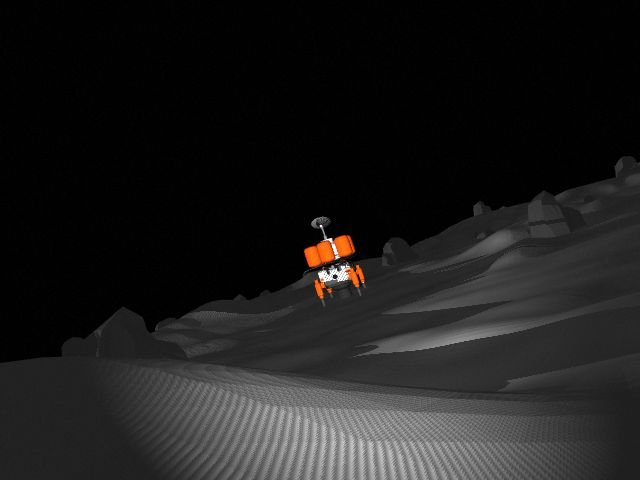homebase: (299, 214, 371, 310)
